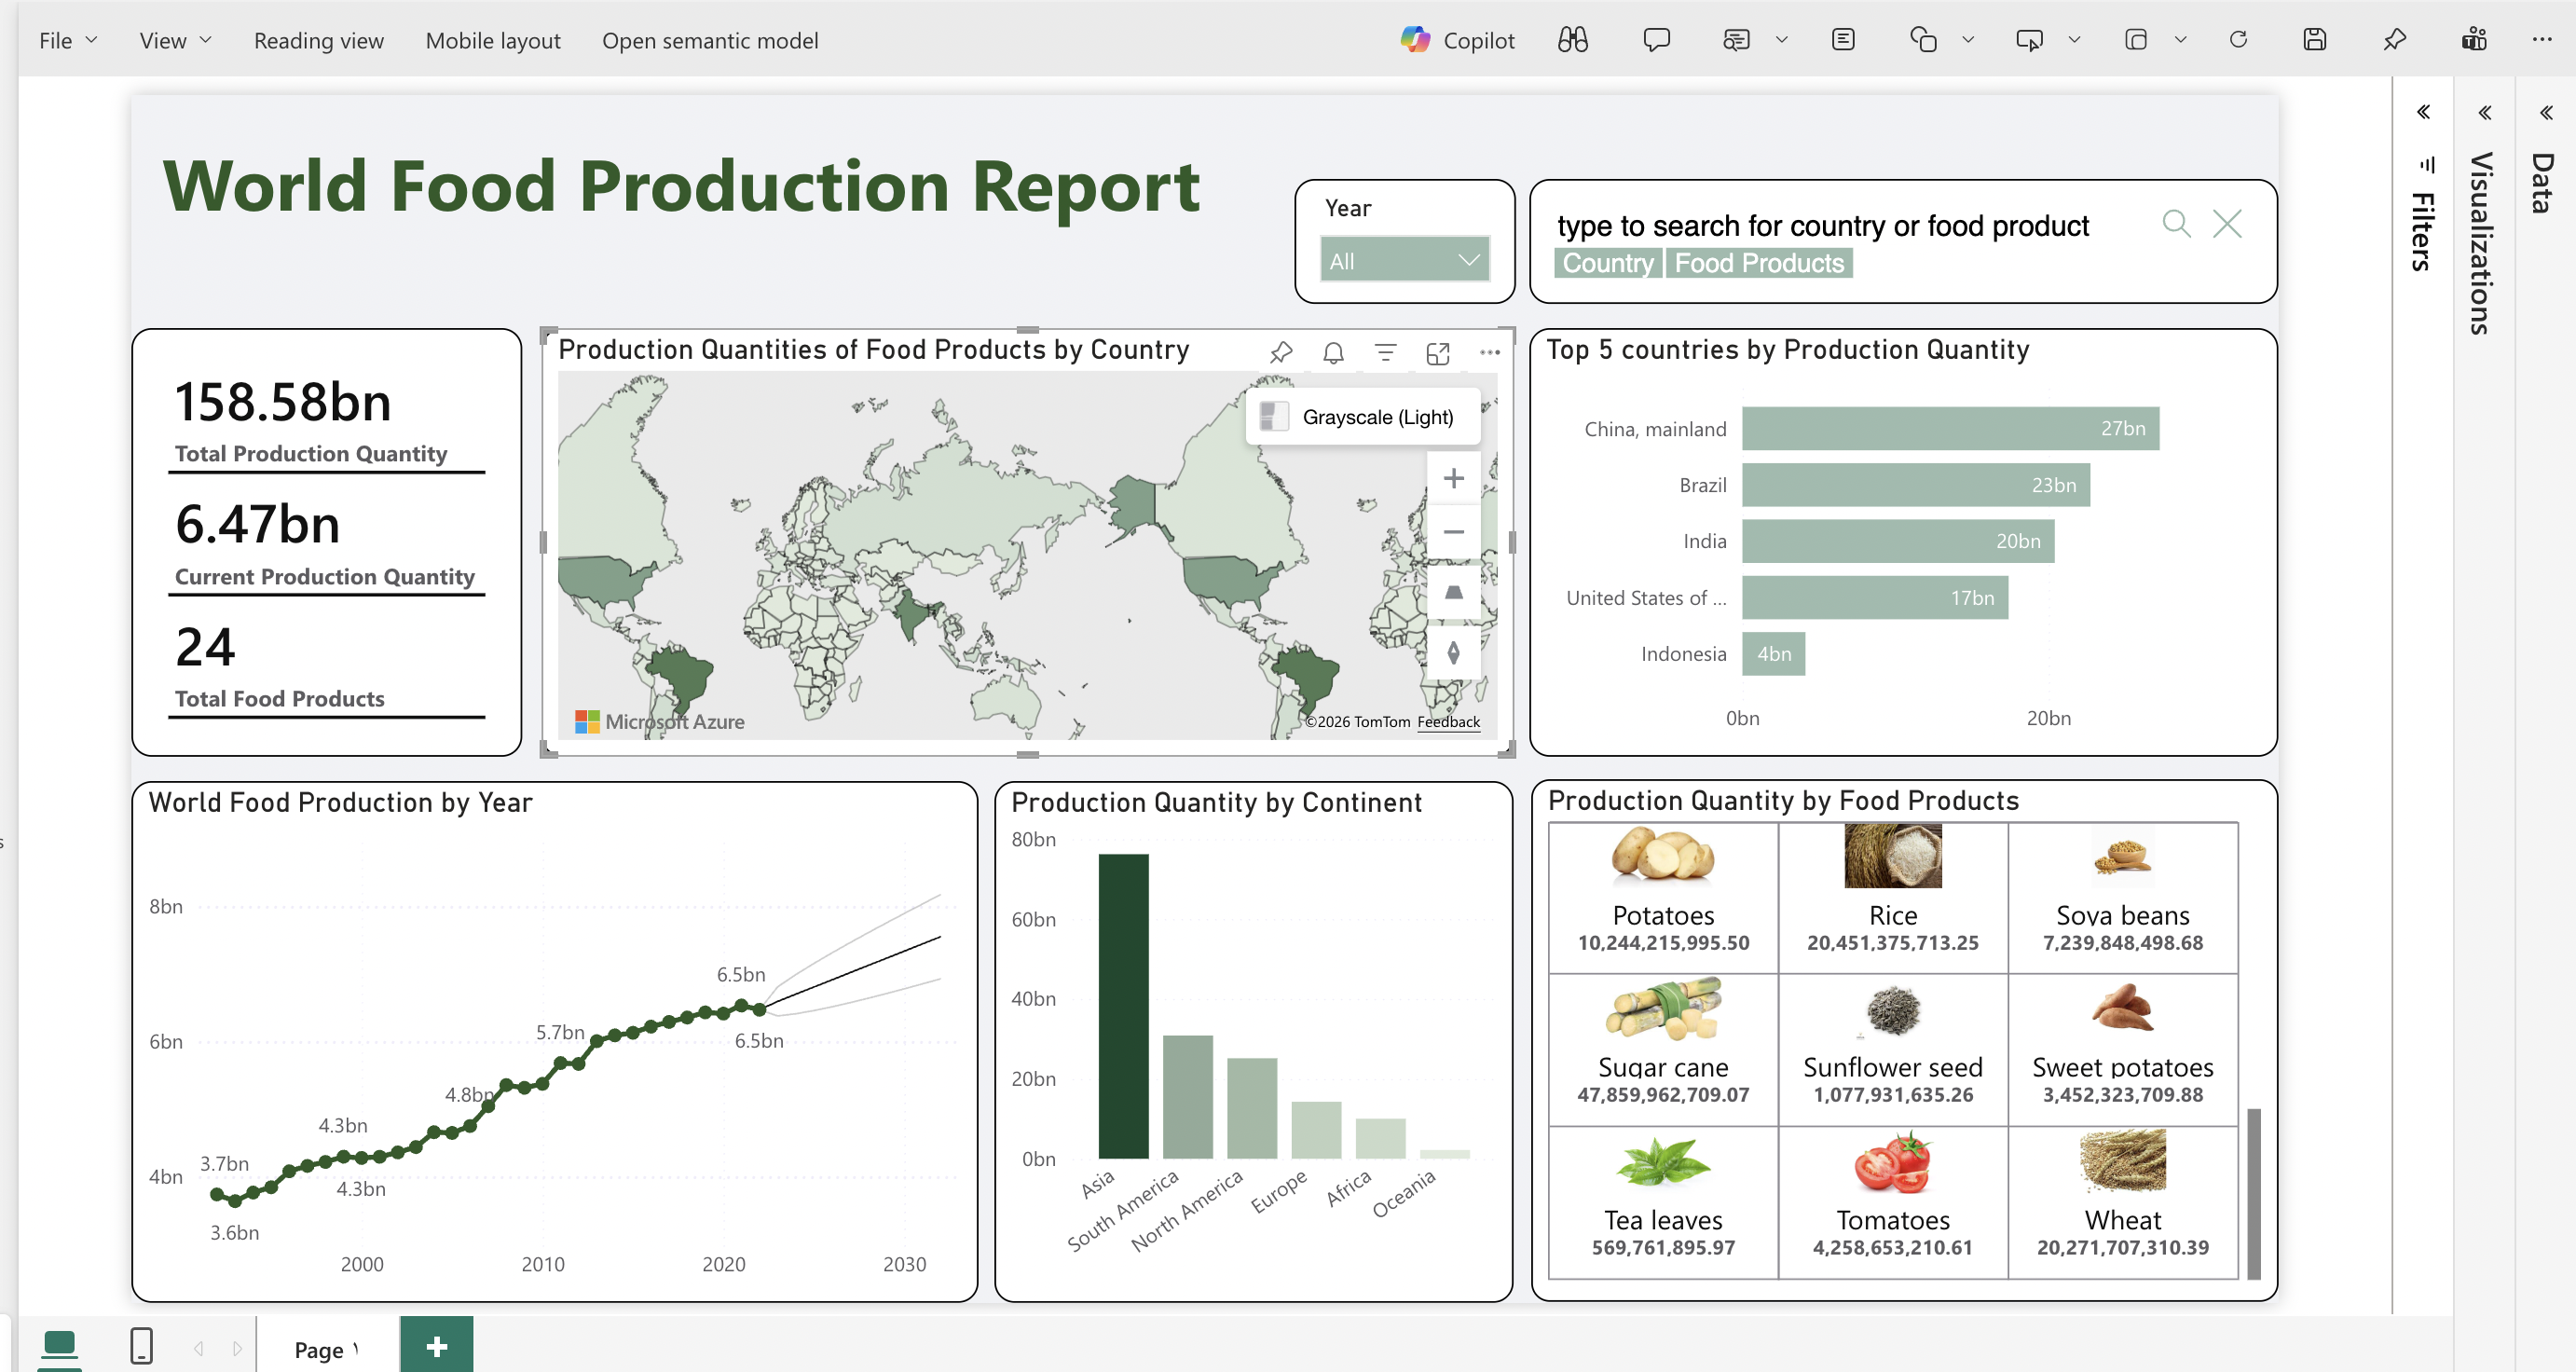

This screenshot's page, from the dashboard's own definition file:
{"tool":"powerbi","page":{"name":"Page ١","canvas":[1280,720],"ordinal":0},"visuals":[{"type":"cardVisual","fields":{"Data":["FAOSTAT_data_en_11-12-2024.Total Production Quantity","FAOSTAT_data_en_11-12-2024.Current Production Quantity","FAOSTAT_data_en_11-12-2024.Total Food Products"]},"box":[0,139,233,255.5],"z":0},{"type":"azureMap","title":"Production Quantities of Food Products by Country","fields":{"Category":["FAOSTAT_data_en_11-12-2024.Country"]},"box":[244.3,139,579.8,255.5],"z":1000},{"type":"advancedSlicerVisual","fields":{"Values":["Food Products.Food Products"]},"box":[834.6,408.3,445.7,311.4],"z":2000},{"type":"lineChart","title":"World Food  Production by Year","fields":{"Y":["Sum(FAOSTAT_data_en_11-12-2024.Product Quantity)"],"Category":["FAOSTAT_data_en_11-12-2024.Year.Variation.Date Hierarchy.Year","FAOSTAT_data_en_11-12-2024.Year.Variation.Date Hierarchy.Quarter","FAOSTAT_data_en_11-12-2024.Year.Variation.Date Hierarchy.Month","FAOSTAT_data_en_11-12-2024.Year.Variation.Date Hierarchy.Day"]},"box":[0,408.9,505.2,311.1],"z":3000},{"type":"clusteredBarChart","title":"Top 5 countries by Production Quantity","fields":{"Category":["FAOSTAT_data_en_11-12-2024.Country"],"Y":["Sum(FAOSTAT_data_en_11-12-2024.Product Quantity)"]},"box":[833.9,139,446.4,255.5],"z":4000},{"type":"clusteredColumnChart","title":"Production Quantity by Continent","fields":{"Category":["country-continent.Continent"],"Y":["Sum(FAOSTAT_data_en_11-12-2024.Product Quantity)"]},"box":[514.9,408.9,309.7,311.1],"z":5000},{"type":"textSearchSlicerF85E2E78BE4A4D7D9F99ED75B5D71C85","fields":{"fields":["FAOSTAT_data_en_11-12-2024.Country","FAOSTAT_data_en_11-12-2024.Food Products"]},"box":[833.9,50.5,446.4,74.4],"z":6000},{"type":"slicer","fields":{"Values":["FAOSTAT_data_en_11-12-2024.Year"]},"box":[693.5,50.5,132,74.4],"z":7000},{"type":"textbox","box":[13.8,0,679.6,138.4],"z":8000}]}

Visuals, with their boxes on the page's 1280x720 design canvas (x1, y1, x2, y2). These are canvas units, not pixel positions in the 2576x1372 screenshot, which may show the page scaled, cropped or inside an application window:
cardVisual - FAOSTAT_data_en_11-12-2024.Total Production Quantity x FAOSTAT_data_en_11-12-2024.Current Production Quantity: select_region(0, 139, 233, 394)
"Production Quantities of Food Products by Country" azureMap: select_region(244, 139, 824, 394)
advancedSlicerVisual - Food Products.Food Products: select_region(835, 408, 1280, 720)
"World Food  Production by Year" lineChart: select_region(0, 409, 505, 720)
"Top 5 countries by Production Quantity" clusteredBarChart: select_region(834, 139, 1280, 394)
"Production Quantity by Continent" clusteredColumnChart: select_region(515, 409, 825, 720)
textSearchSlicerF85E2E78BE4A4D7D9F99ED75B5D71C85 - FAOSTAT_data_en_11-12-2024.Country x FAOSTAT_data_en_11-12-2024.Food Products: select_region(834, 50, 1280, 125)
slicer - FAOSTAT_data_en_11-12-2024.Year: select_region(694, 50, 826, 125)
textbox: select_region(14, 0, 693, 138)
